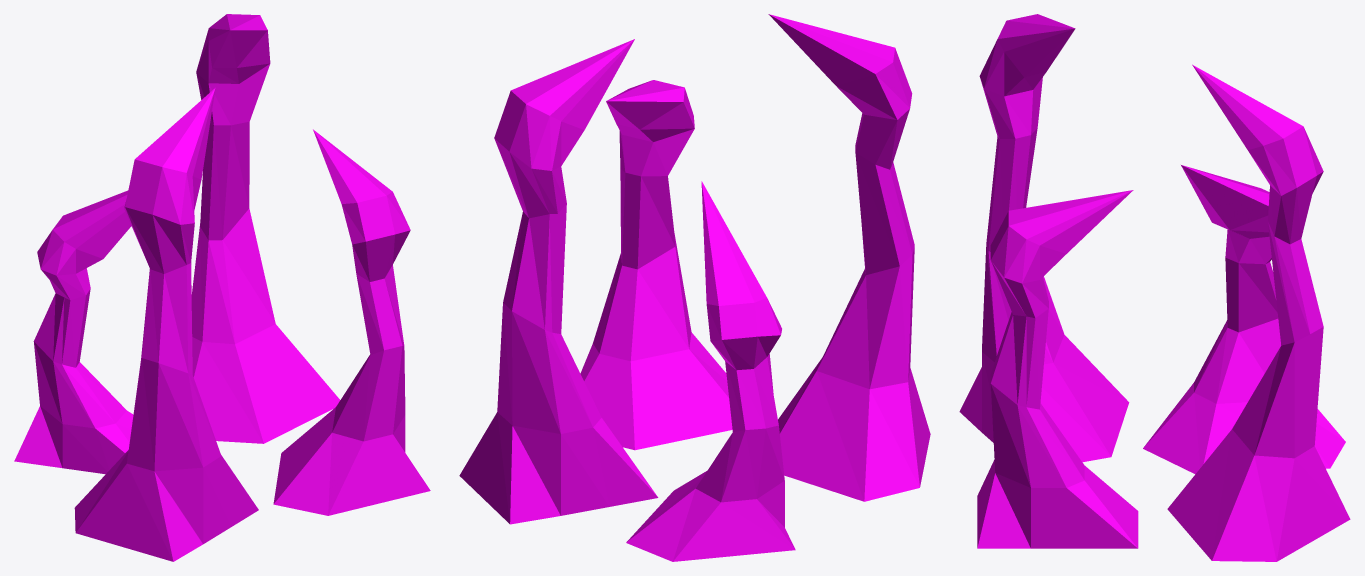
The model's file is clawspell1.obj.
3 renders of one model, left to right at view 1: azimuth 30°, elevation 25°; view 2: azimuth 150°, elevation 25°; view 3: azimuth 270°, elevation 25°, orthographic. The views are drawn at different scales.
Visible parts, largest first — view 1: clawspell1_back; view 2: clawspell1_back; view 3: clawspell1_back.
Boxes of the visible parts, x1=… form: clawspell1_back: x1=14, y1=14, x2=430, y2=561; clawspell1_back: x1=459, y1=14, x2=930, y2=561; clawspell1_back: x1=959, y1=14, x2=1350, y2=561.
Bounding box in the file's own units: 1.83 × 2.14 × 1.75.
